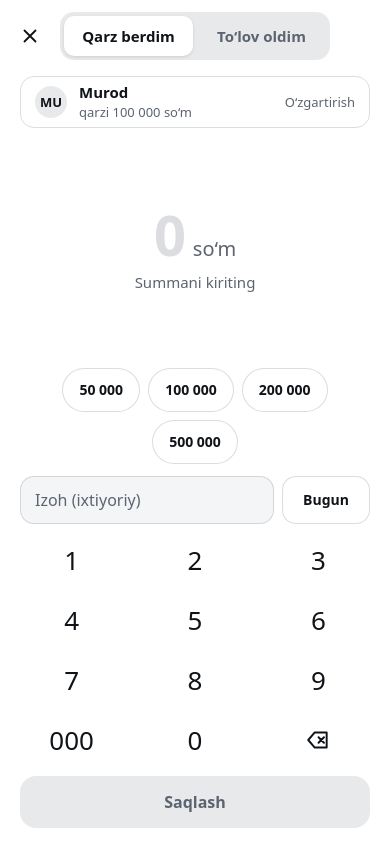
Test: AddEntry › turni almashtirish: qarz → to‘lov, natija qayta hisoblanadi
Expected: the element with test id "amount" is shown, [154,204,236,264]
Click the button "5".
click(195, 620)  # box [135,592,255,648]
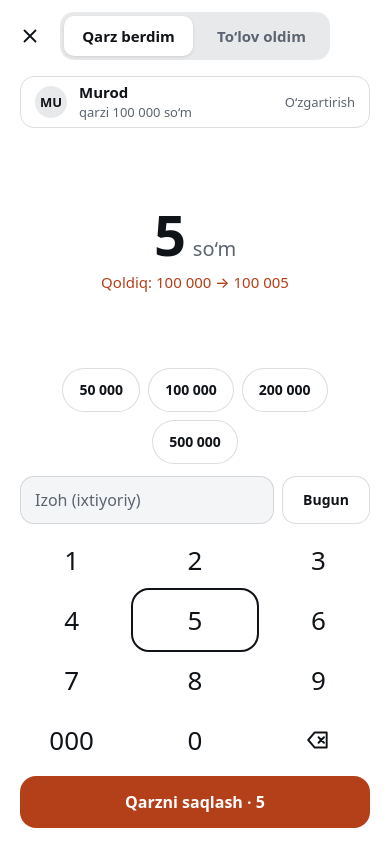
Click the button "0".
click(195, 740)  # box [135,712,255,768]
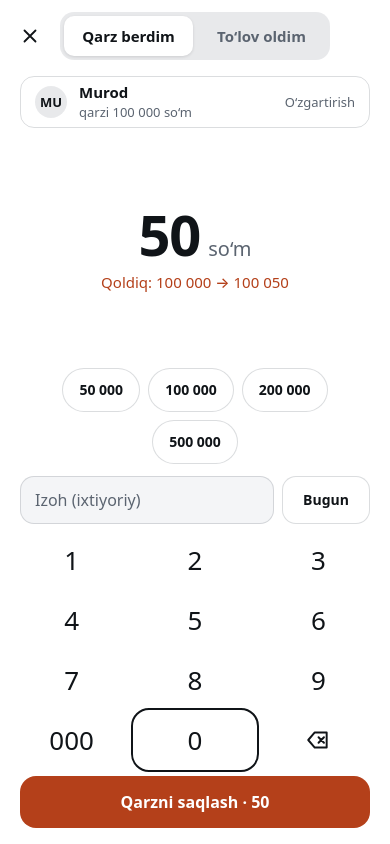
Click the button "0".
click(195, 740)  # box [135,712,255,768]
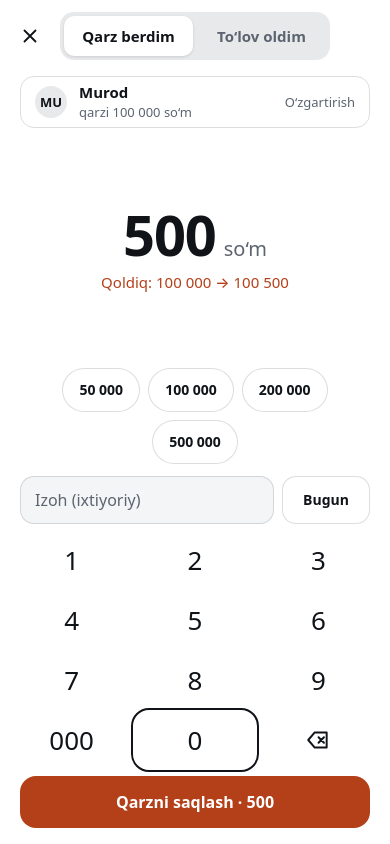
Click the button "0".
click(195, 740)  # box [135,712,255,768]
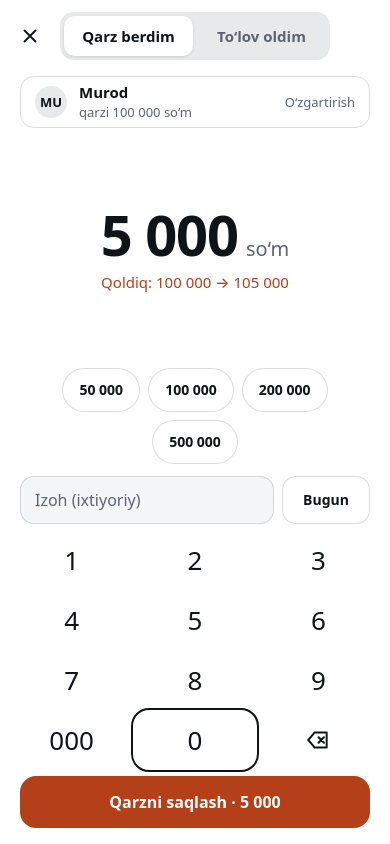
Click the button "0".
click(195, 740)  # box [135,712,255,768]
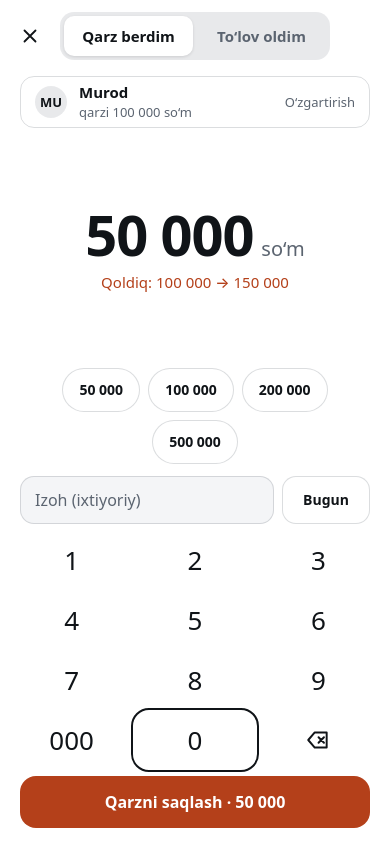
Expected: the text "Qoldiq: 100 000 → 150 000" is shown, [101,272,289,292]
Click the button "To‘lov oldim".
click(262, 36)  # box [197,16,326,56]
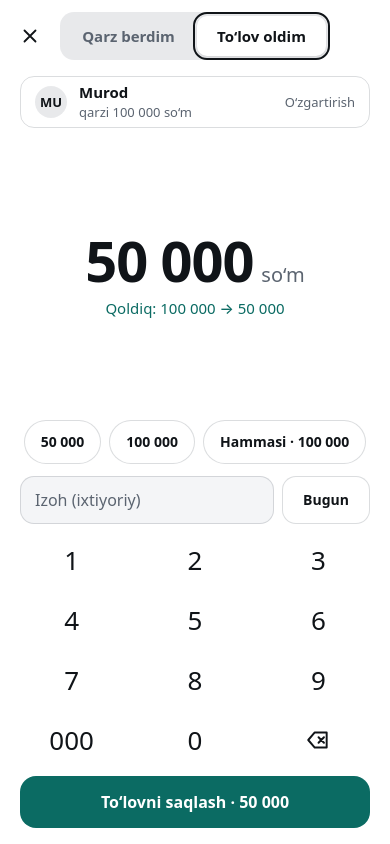
Expected: the text "Qoldiq: 100 000 → 50 000" is shown, [105,298,285,318]
